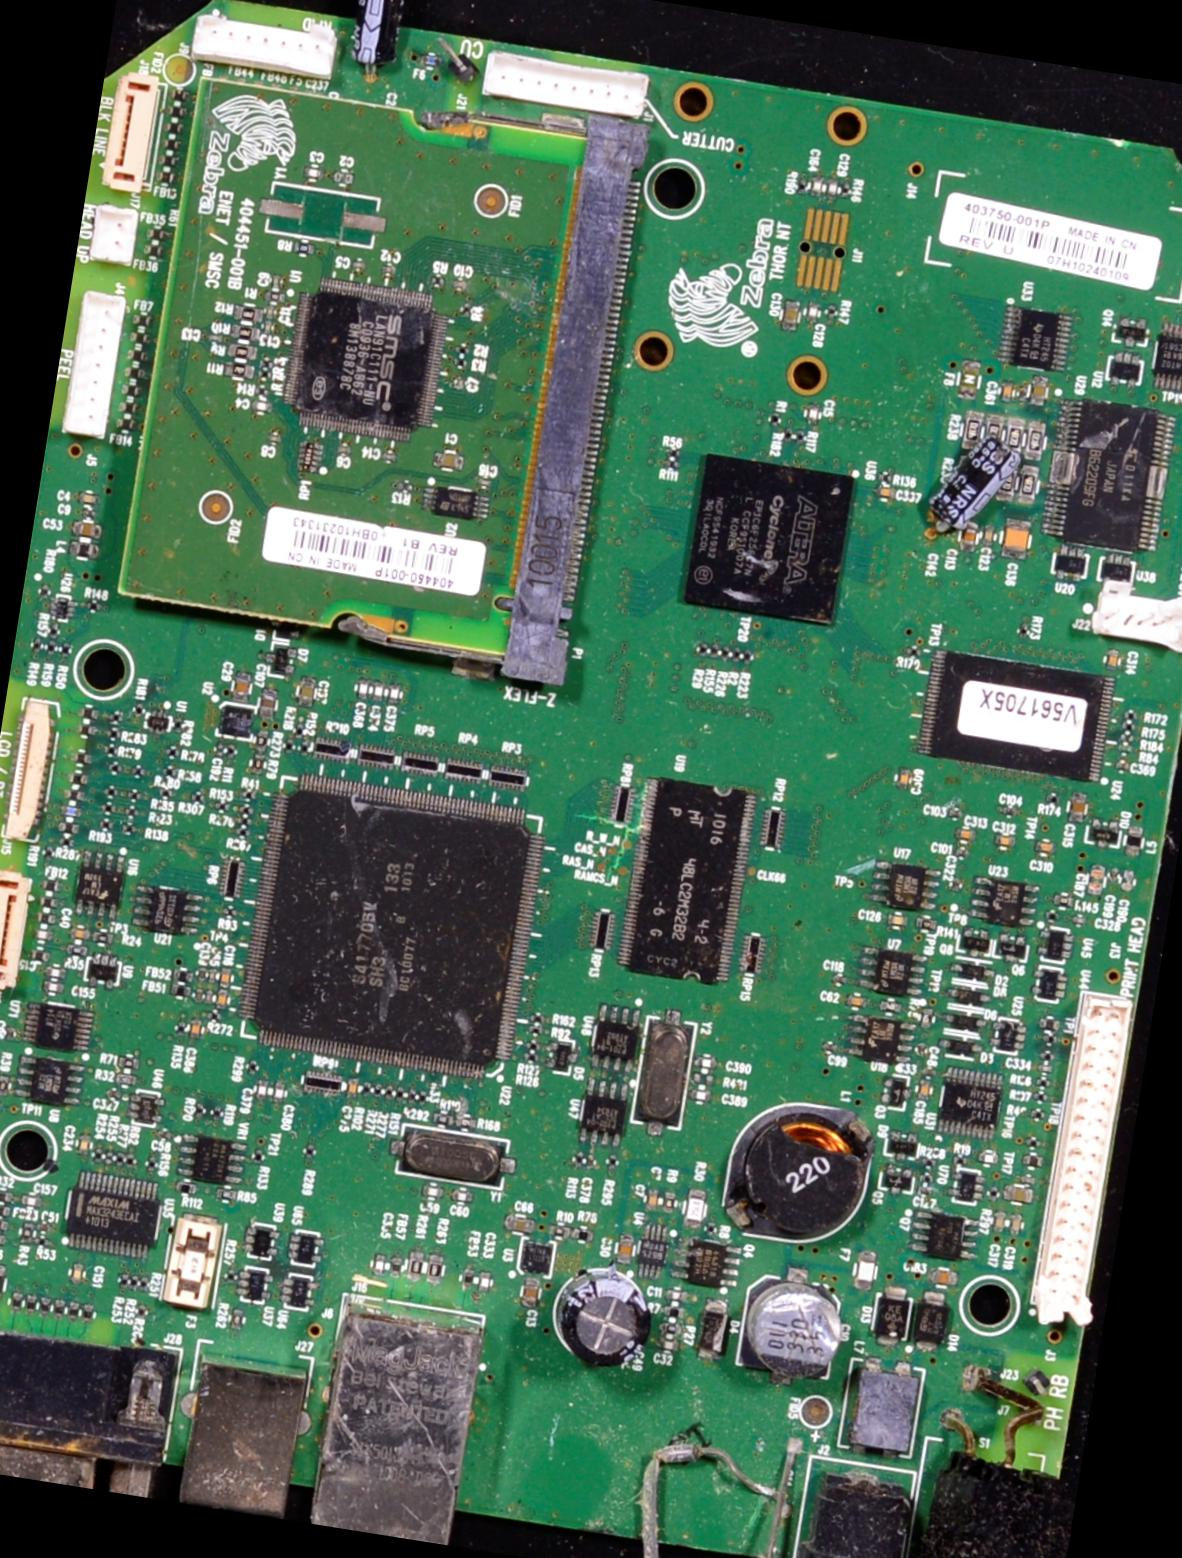-: (990, 1018, 1019, 1051), (952, 957, 957, 967)
Capacitor Jumper: (999, 518, 1031, 562), (430, 448, 464, 468), (929, 1266, 961, 1287), (520, 1275, 540, 1308), (1088, 862, 1105, 899), (1068, 792, 1086, 824), (1029, 375, 1048, 406), (616, 1233, 633, 1265), (843, 993, 873, 1012), (1003, 1188, 1031, 1205), (950, 826, 973, 843), (1033, 839, 1054, 858), (643, 1188, 658, 1214), (896, 765, 911, 791), (884, 912, 910, 927), (918, 1079, 930, 1109), (962, 524, 976, 549), (1106, 646, 1120, 670), (993, 833, 1016, 848), (77, 1132, 88, 1159), (998, 381, 1012, 401), (982, 525, 995, 546), (70, 1263, 81, 1284), (348, 1078, 359, 1097)
Connector: (1031, 992, 1139, 1327), (485, 53, 657, 117), (189, 14, 336, 84), (2, 695, 60, 844), (101, 74, 160, 197), (0, 871, 34, 991)
IC: (236, 768, 548, 1083), (679, 454, 859, 629), (616, 776, 756, 986), (282, 276, 448, 444), (915, 644, 1112, 783), (1038, 397, 1177, 554), (56, 1166, 165, 1258), (937, 1064, 1008, 1142), (999, 304, 1071, 374), (12, 1053, 87, 1111), (175, 1133, 247, 1191), (71, 849, 128, 921), (844, 1015, 919, 1068), (132, 883, 201, 937), (970, 873, 1038, 927), (587, 1002, 639, 1071), (579, 1076, 631, 1146), (870, 860, 942, 910), (859, 945, 925, 997), (24, 1003, 94, 1051), (416, 483, 494, 519), (634, 1223, 672, 1282), (216, 700, 259, 742), (518, 1234, 556, 1279), (125, 1086, 165, 1127), (1035, 922, 1074, 965), (1032, 965, 1069, 1004), (278, 1271, 312, 1313), (950, 1166, 985, 1205), (245, 1219, 276, 1261), (289, 1232, 317, 1268)
Resistor Jumper: (226, 343, 258, 361), (231, 304, 264, 322), (225, 361, 261, 377), (230, 324, 262, 341), (115, 1054, 138, 1069), (113, 1073, 137, 1085)
Transistor: (670, 1236, 740, 1292), (910, 1208, 976, 1264), (879, 1075, 910, 1116), (995, 930, 1031, 963), (1105, 353, 1142, 385), (954, 925, 991, 956), (879, 1163, 918, 1191), (1114, 314, 1147, 345)
iC: (1151, 323, 1181, 394), (235, 1268, 269, 1307)
